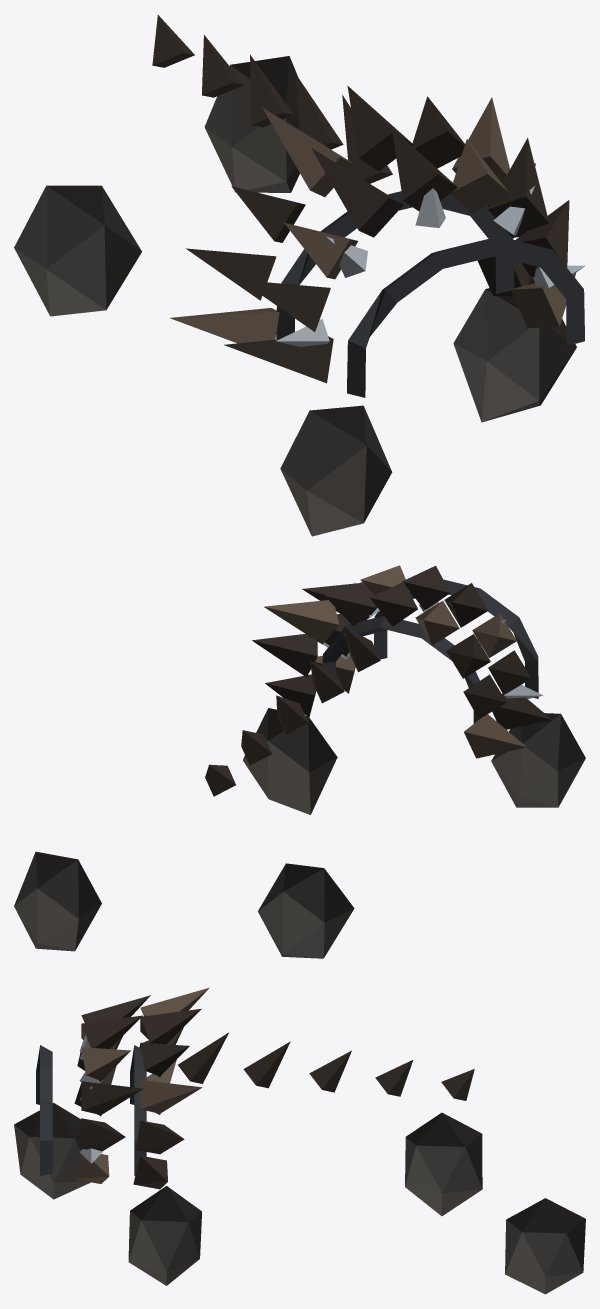
File: dk_hound_alpha.glb
The picture shows the model from 3 angles, top to bottom: view 1: azimuth 30°, elevation 25°; view 2: azimuth 150°, elevation 25°; view 3: azimuth 270°, elevation 25°; orthographic projection. The views are drawn at different scales.
Parts seen in each view (by area): view 1: dk_hound_alpha; view 2: dk_hound_alpha; view 3: dk_hound_alpha.
Boxes of the visible parts, box(x1,y1,x2,y2) form: dk_hound_alpha: box(14, 15, 585, 536); dk_hound_alpha: box(14, 565, 585, 958); dk_hound_alpha: box(14, 987, 585, 1294).
Bounding box in the file's own units: 1.34 × 1.07 × 2.43.
Materials: 1 (1 with a texture image).
